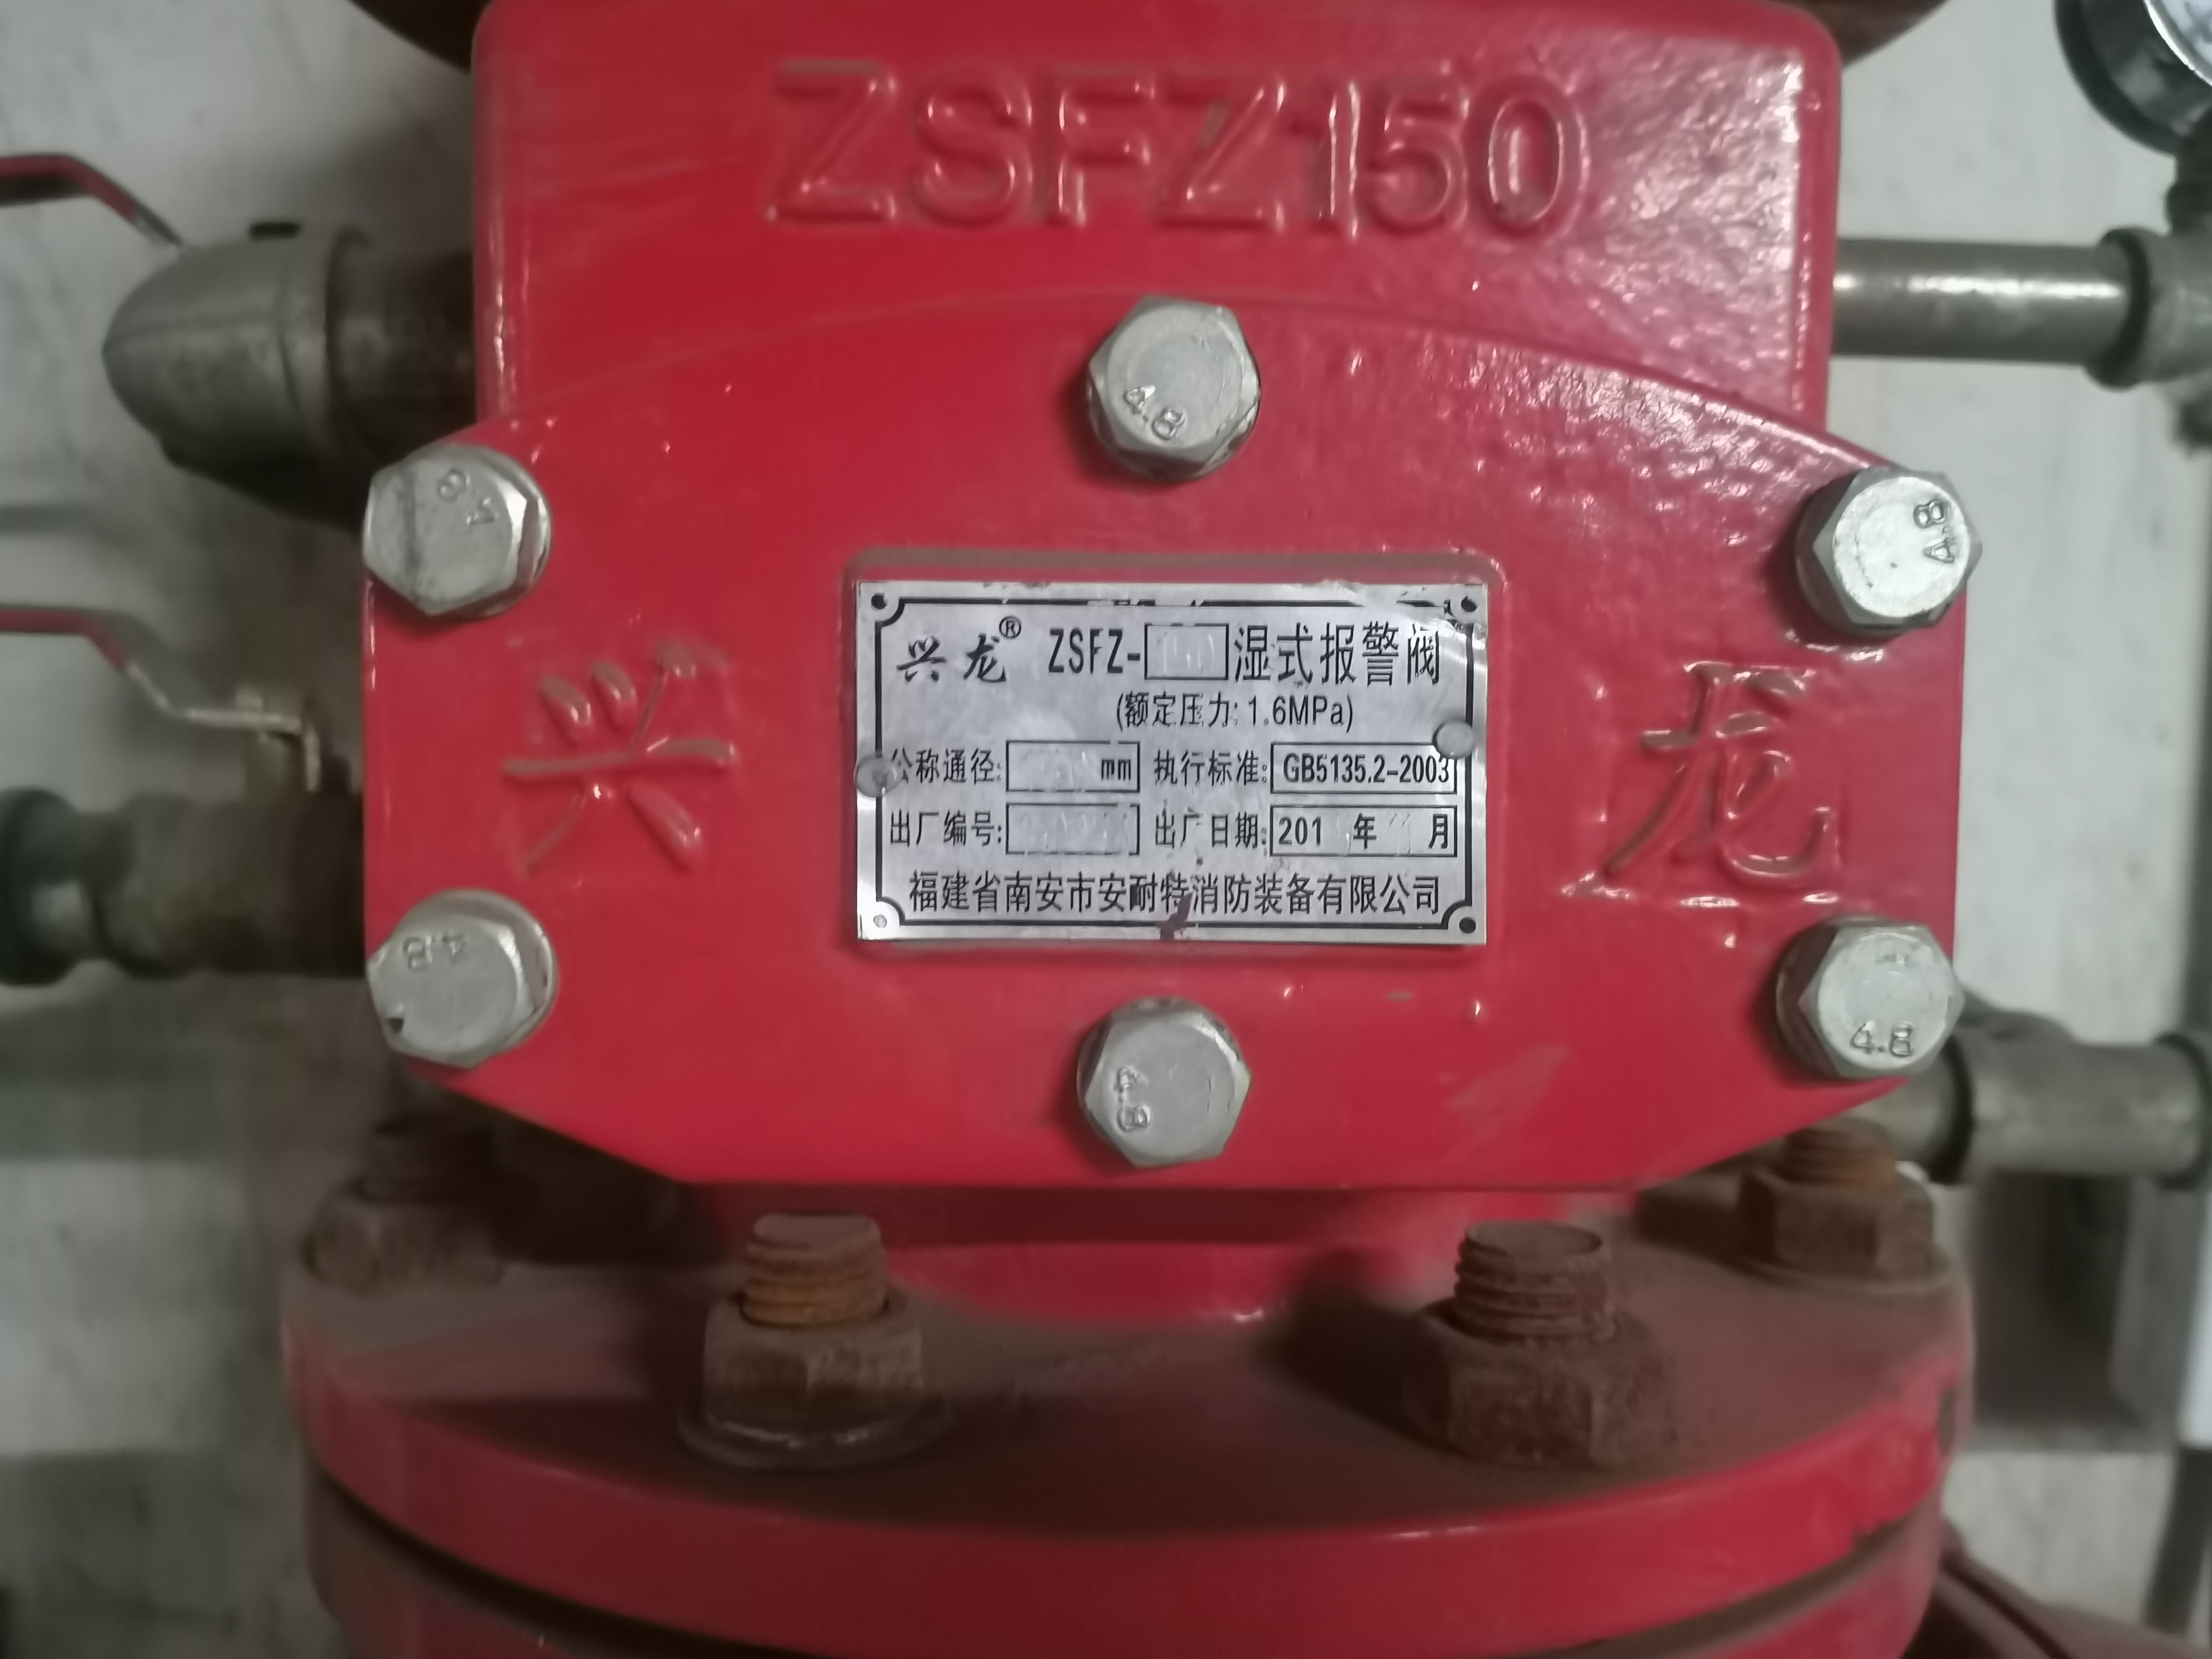bolt_a: (354, 432, 543, 624), (1083, 288, 1266, 477), (1796, 462, 1987, 634), (1778, 913, 1968, 1086), (359, 897, 543, 1073), (1076, 997, 1258, 1175)
bolt_c: (1379, 1283, 1691, 1476), (679, 1267, 934, 1445), (300, 1147, 535, 1300), (1730, 1152, 1952, 1286)
